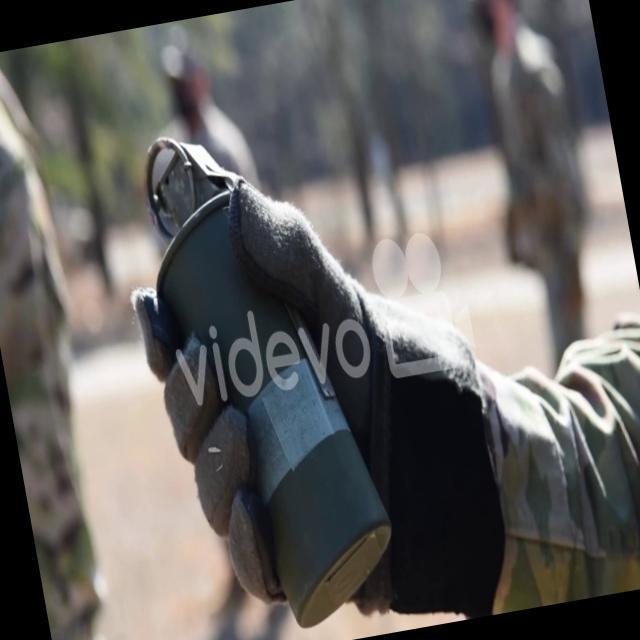grenade: (114, 105, 408, 640)
